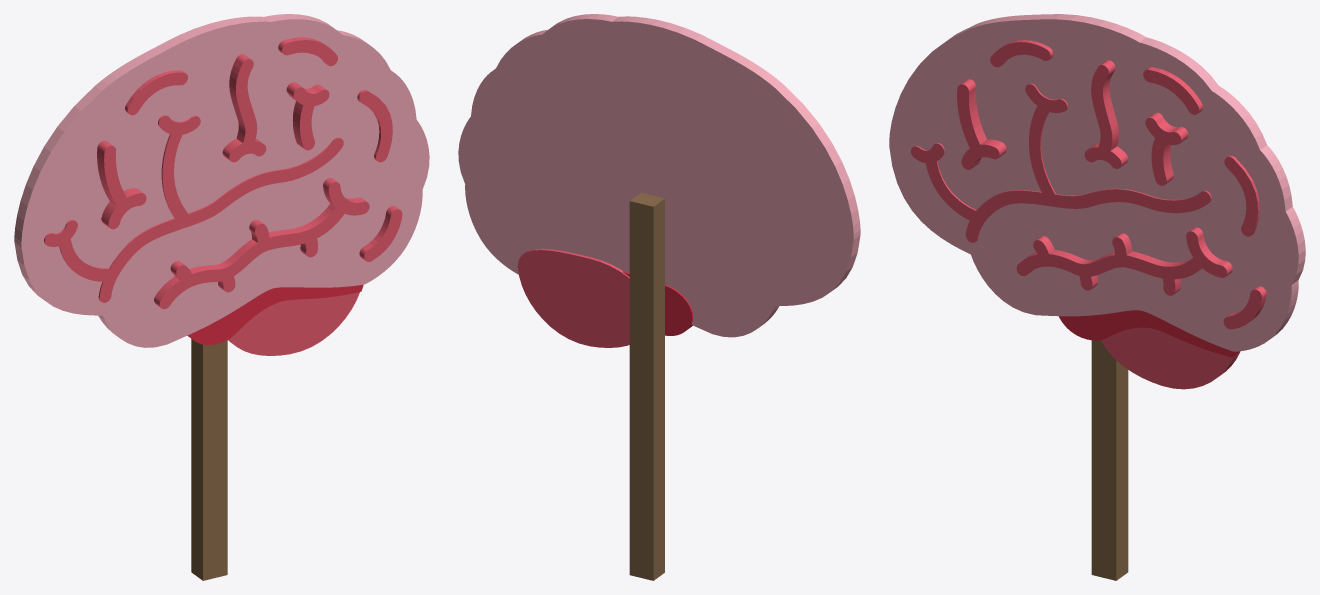
The model's file is cerveau.glb.
The picture shows the model from 3 angles, left to right: view 1: azimuth 30°, elevation 25°; view 2: azimuth 150°, elevation 25°; view 3: azimuth 330°, elevation 25°; orthographic projection. The views are drawn at different scales.
Bounding box in the file's own units: 1 × 1.31 × 0.129.
